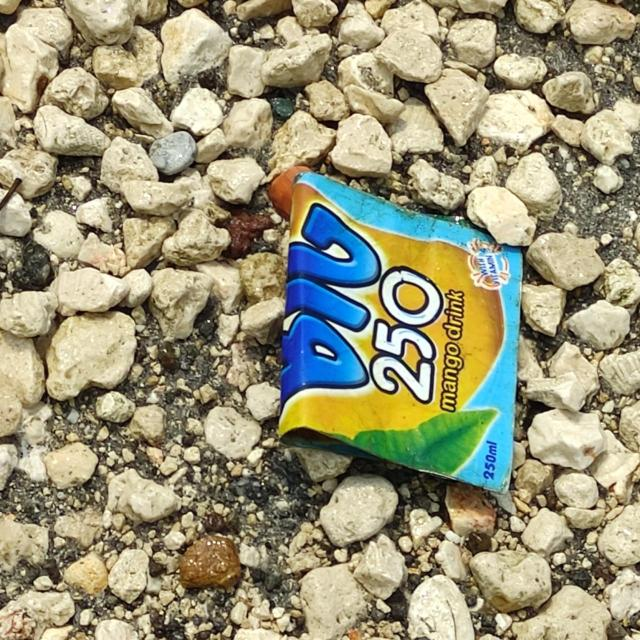plastic_waste: (279, 171, 526, 499)
